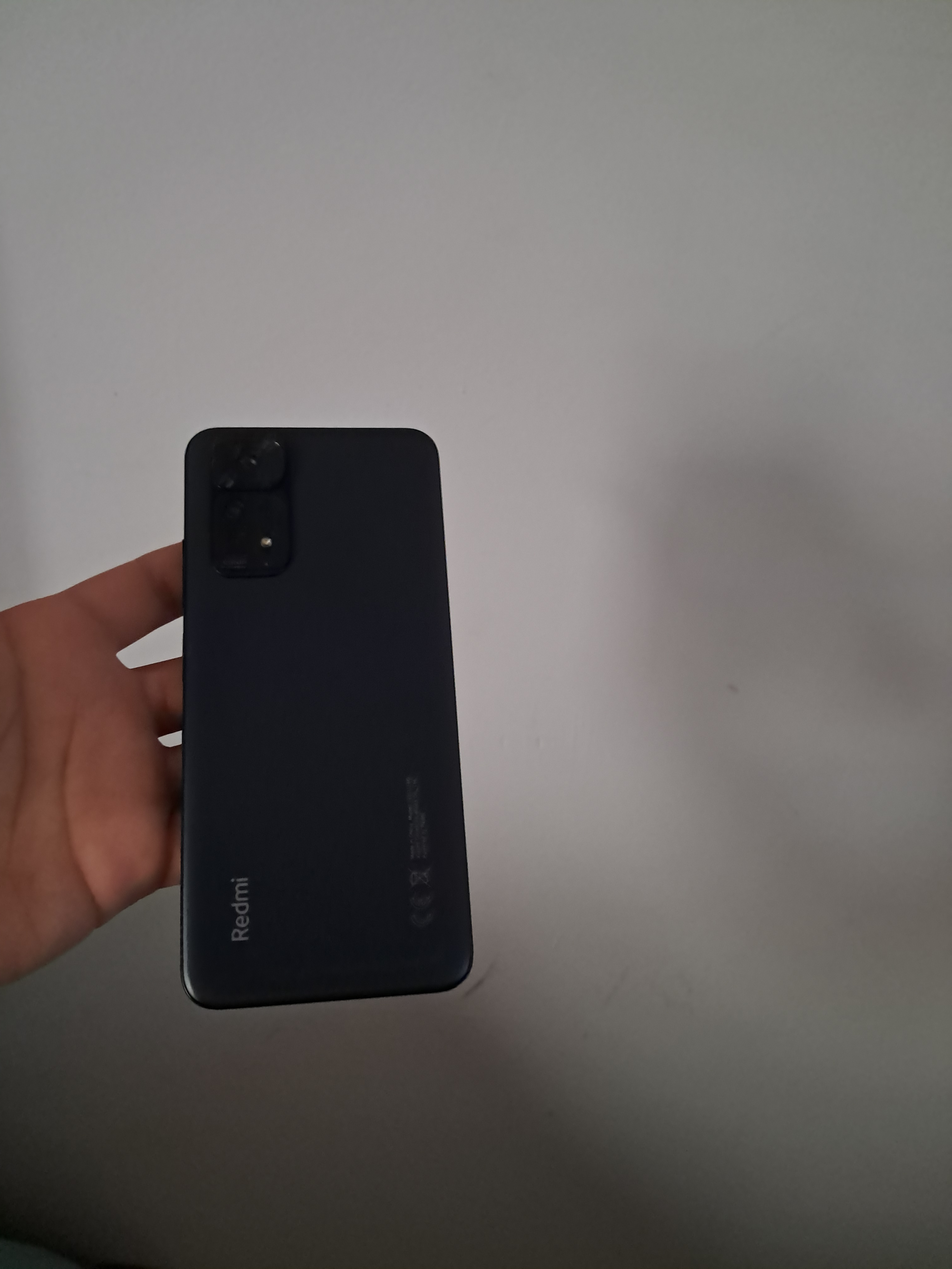phone: (181, 426, 473, 1008)
